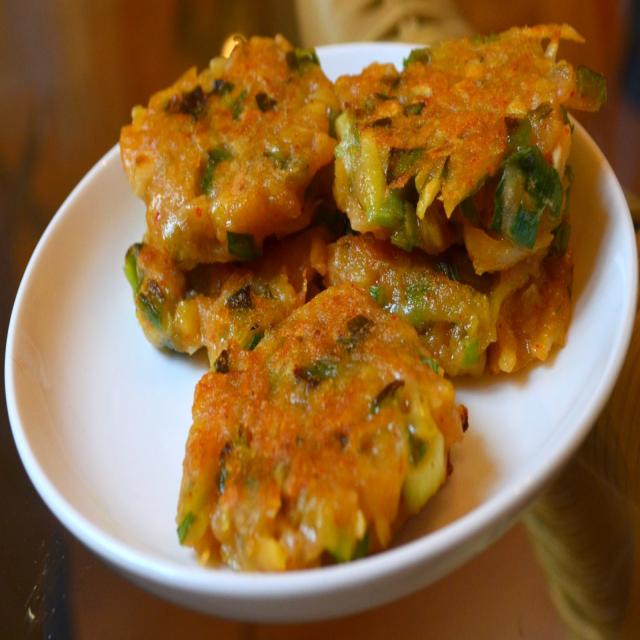Aloo Tikki: (178, 288, 468, 572), (332, 19, 606, 271), (122, 29, 333, 262), (331, 224, 578, 363), (124, 231, 330, 363)
